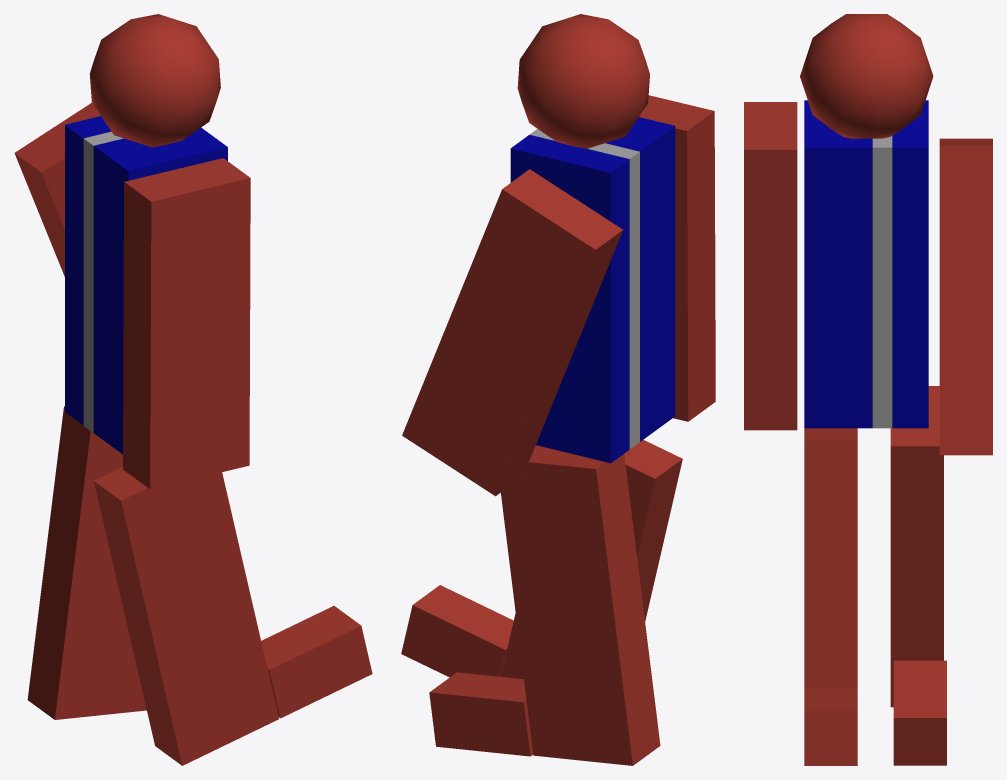
The model's file is player_000037.obj.
3 views of the same model, side by side, from view 1: azimuth 30°, elevation 25°; view 2: azimuth 150°, elevation 25°; view 3: azimuth 270°, elevation 25° (orthographic). The views are drawn at different scales.
Parts seen in each view (by area): view 1: Cube.005, Cube.001, Cube.002, Cube, Icosphere, Cube.003, Cube.006; view 2: Cube.002, Cube.006, Cube, Icosphere, Cube.005, Cube.003, Cube.004, Cube.001; view 3: Cube, Cube.005, Cube.006, Cube.001, Cube.002, Icosphere, Cube.004, Cube.003.
Part boxes in pixels (x1,y1,x2,y2): Cube.005: (123, 158, 250, 489); Cube.001: (94, 467, 278, 765); Cube.002: (27, 406, 146, 719); Cube: (65, 116, 227, 454); Icosphere: (89, 14, 220, 147); Cube.003: (261, 606, 372, 718); Cube.006: (14, 103, 100, 276); Cube.002: (501, 445, 660, 765); Cube.006: (402, 169, 622, 496); Cube: (510, 117, 675, 463); Icosphere: (517, 14, 649, 148); Cube.005: (639, 95, 715, 421); Cube.003: (401, 585, 513, 677); Cube.004: (429, 672, 533, 756); Cube.001: (501, 440, 682, 679); Cube: (804, 100, 928, 428); Cube.005: (744, 102, 797, 430); Cube.006: (939, 138, 992, 455); Cube.001: (804, 428, 857, 688); Cube.002: (890, 386, 943, 707); Icosphere: (800, 14, 933, 138); Cube.004: (893, 660, 946, 765); Cube.003: (804, 688, 857, 765).
Size of the model in its own units: 1.13 by 2.86 by 0.9137.
